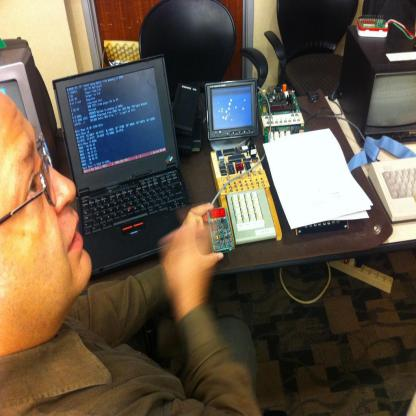board: (54, 54, 195, 272)
